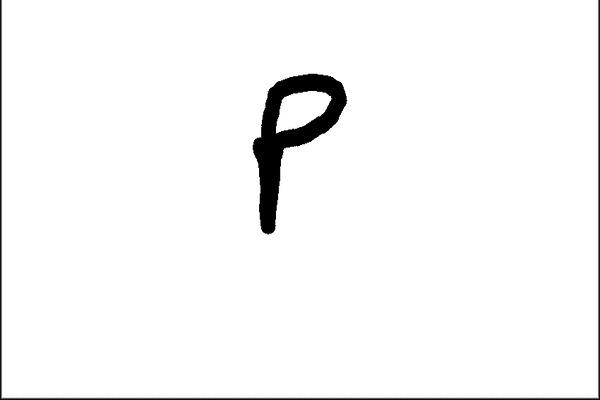P: (249, 62, 348, 235)
